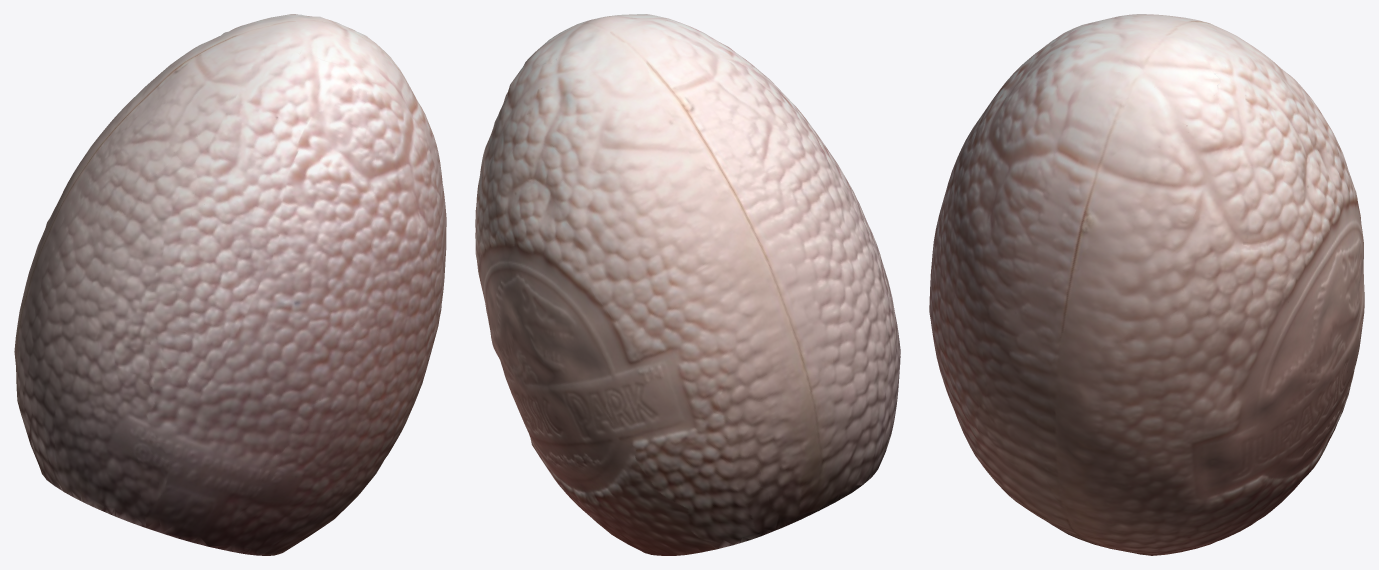
The model's file is dinosaur_egg.glb.
3 views of the same model, side by side, from view 1: azimuth 30°, elevation 25°; view 2: azimuth 150°, elevation 25°; view 3: azimuth 270°, elevation 25° (orthographic). The views are drawn at different scales.
Parts seen in each view (by area): view 1: Object_2; view 2: Object_2; view 3: Object_2.
Part boxes in pixels (<box>): Object_2: <box>14,14,446,555</box>; Object_2: <box>475,14,900,555</box>; Object_2: <box>929,14,1364,555</box>.
Bounding box in the file's own units: 0.1744 × 0.2162 × 0.1578.
1 material, 1 textured.
